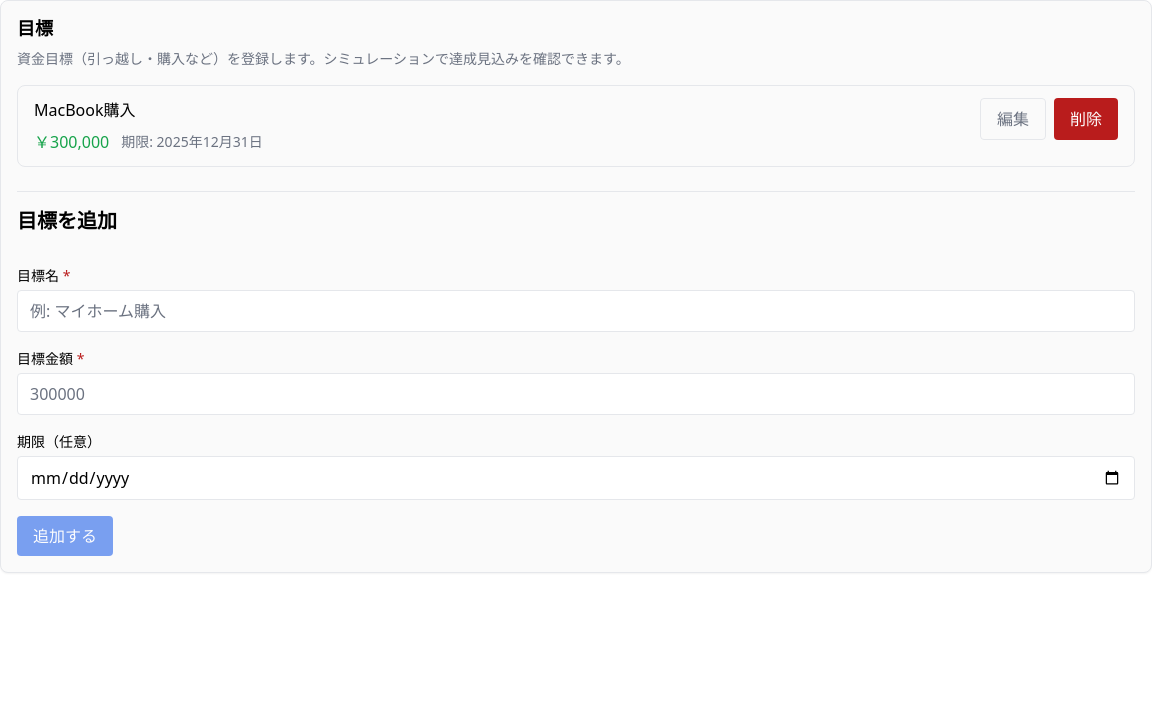
GoalSection › enters edit mode when edit is clicked
The image size is (1152, 720).
Click the button "編集" at {"x": 1013, "y": 118}, box [980,98,1046,140]
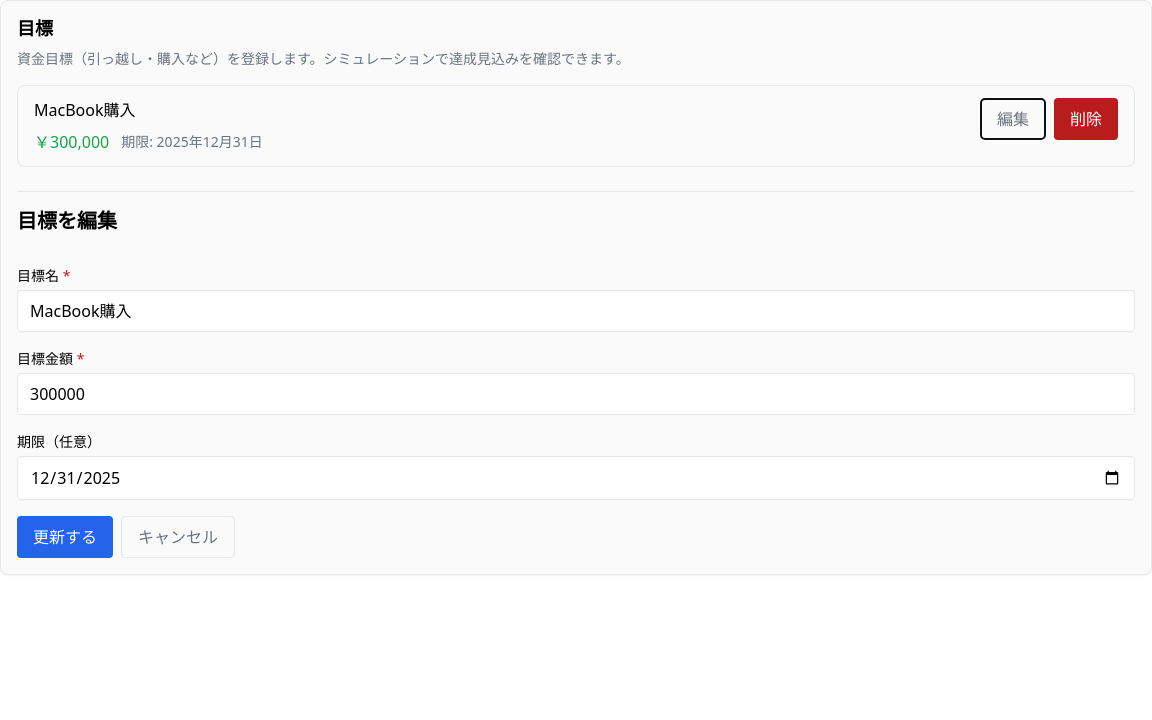
Expected: the heading "目標を編集" is shown, [17,206,117,234]
Expected: the field showing "MacBook購入" is shown, [17,290,1135,332]
